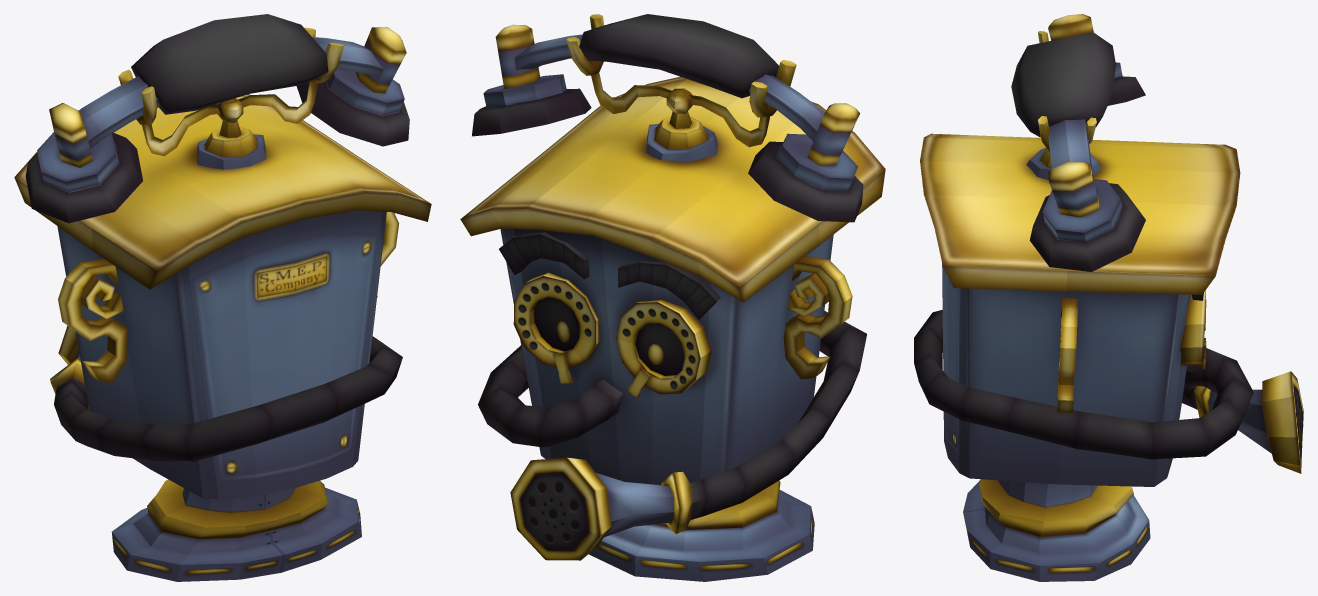
File: mouthpiece_head.glb
The picture shows the model from 3 angles, left to right: view 1: azimuth 30°, elevation 25°; view 2: azimuth 150°, elevation 25°; view 3: azimuth 270°, elevation 25°; orthographic projection. The views are drawn at different scales.
Visible parts, largest first — view 1: Object; view 2: Object; view 3: Object.
Part boxes in pixels (x1,y1,x2,y2): Object: [14, 14, 431, 581]; Object: [460, 14, 885, 581]; Object: [914, 14, 1303, 581].
Bounding box in the file's own units: 1.49 × 1.97 × 1.43.
Materials: 1 (1 with a texture image).
